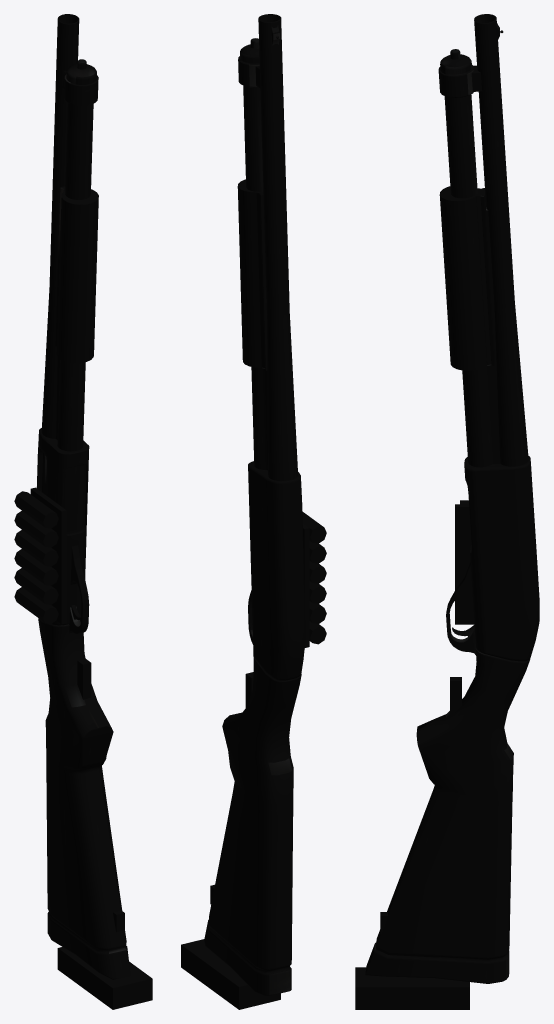
Rendered from Rem870__Mount_ScopeBase__RecoilPad_Rubber__Sidesaddle_Shotgun__Stock_870_Folding.fbx.
3 renders of one model, left to right at view 1: azimuth 30°, elevation 25°; view 2: azimuth 210°, elevation 25°; view 3: azimuth 270°, elevation 25°, orthographic. The views are drawn at different scales.
Visible parts, largest first — view 1: asset_Rem870.001; view 2: asset_Rem870.001; view 3: asset_Rem870.001.
Part boxes in pixels (<box>): asset_Rem870.001: <box>14,14,152,1009</box>; asset_Rem870.001: <box>181,14,326,1009</box>; asset_Rem870.001: <box>355,14,539,1009</box>.
Size of the model in its own units: 0.0429 by 0.651 by 0.1108.
